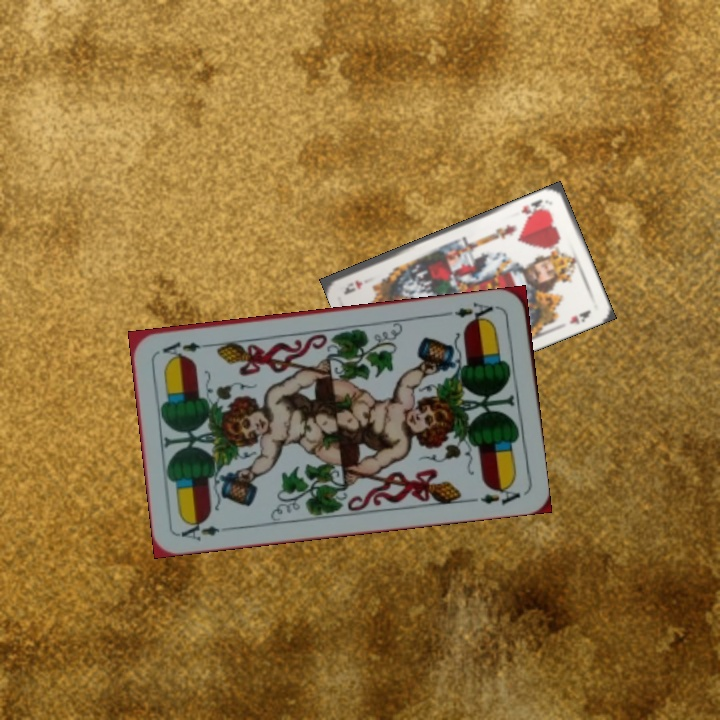EA: (177, 516, 235, 544), (450, 298, 502, 326)
HK: (517, 195, 551, 220)
